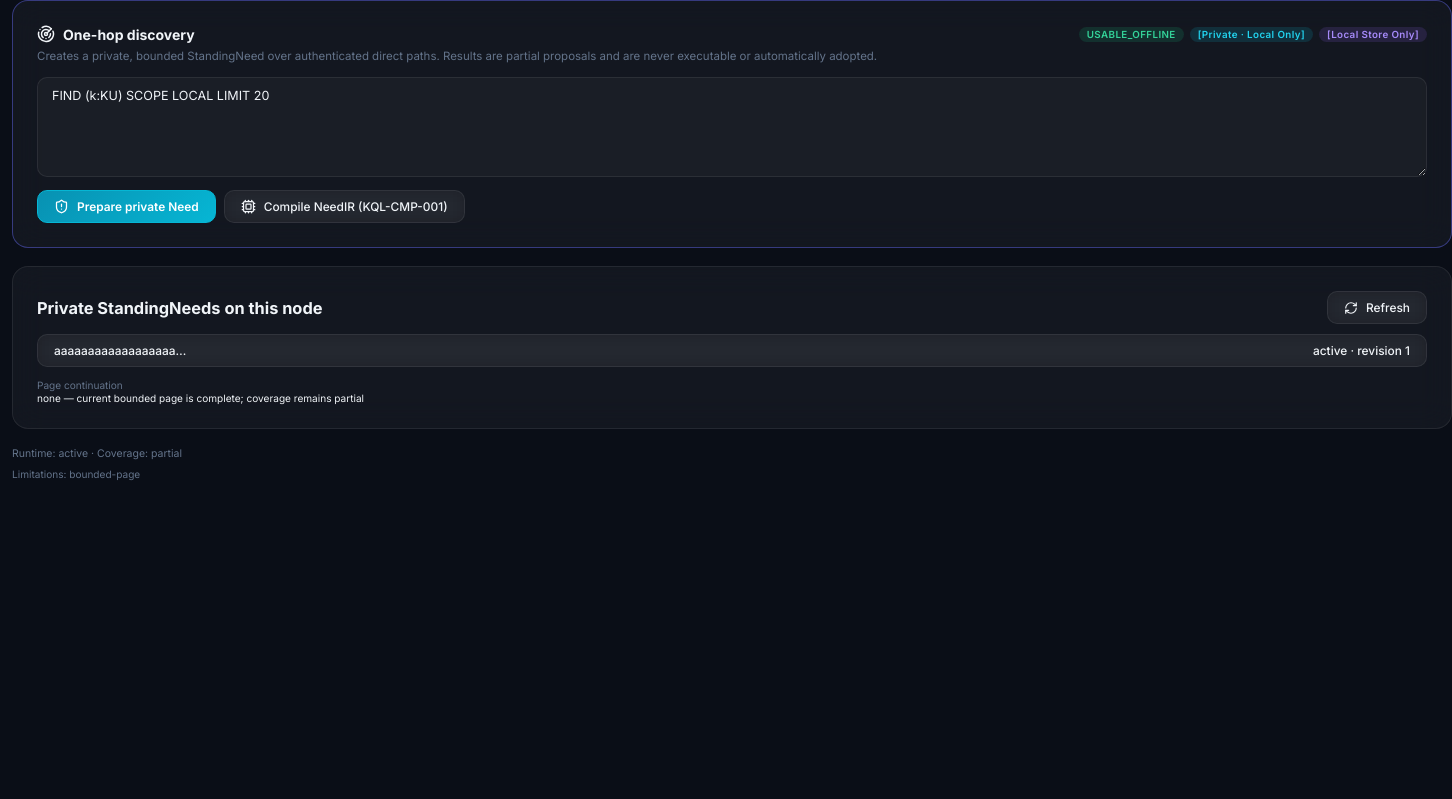
prepares a one-hop scope and projects matches only as non-executable quarantined proposals
Click the button "Prepare private Need" at (126, 206), box [37,190,216,223]
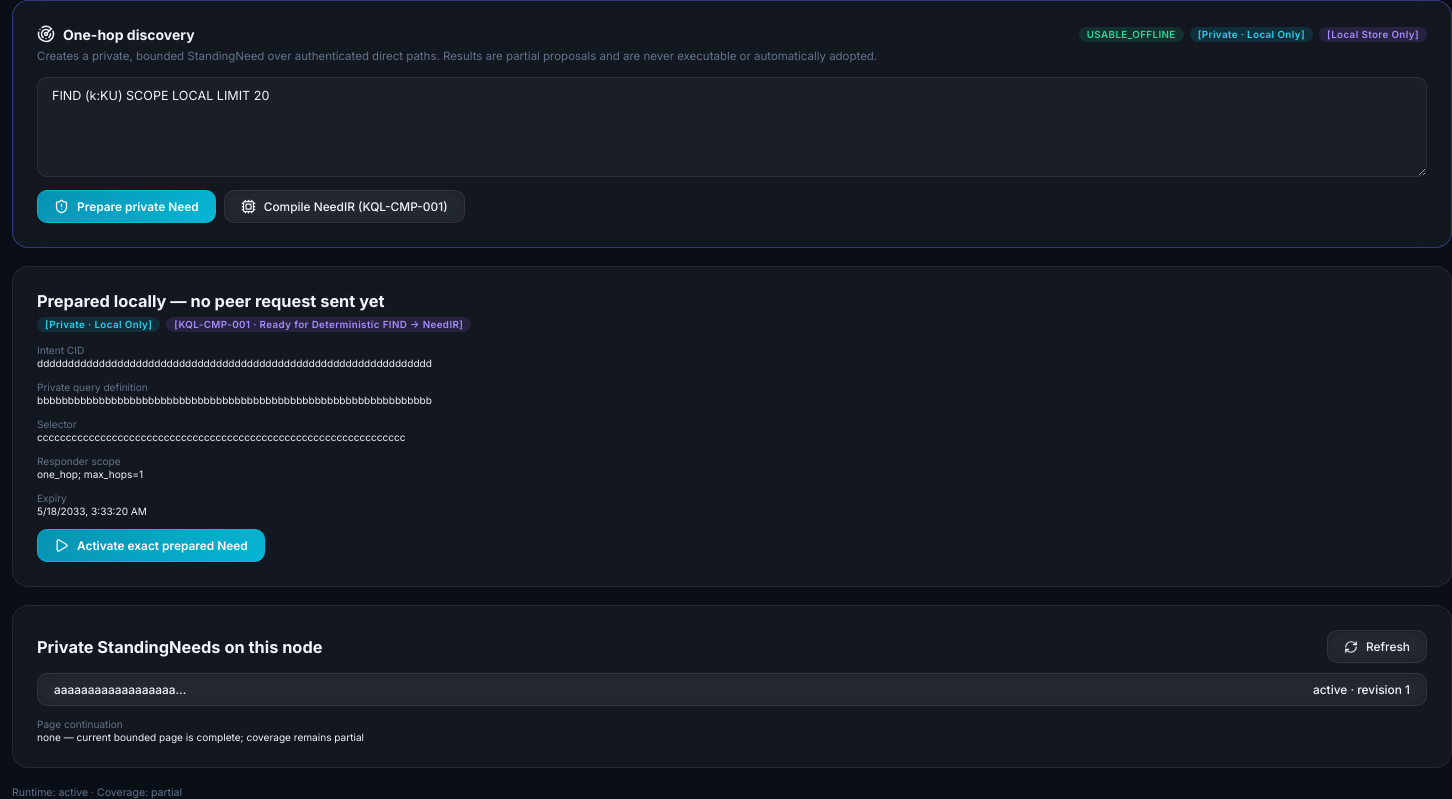
Expected: the heading "Prepared locally — no peer request sent yet" is shown, [37,291,384,311]
Click the 5th button at (115, 690), box [37,673,1427,706]
(page scrolled)
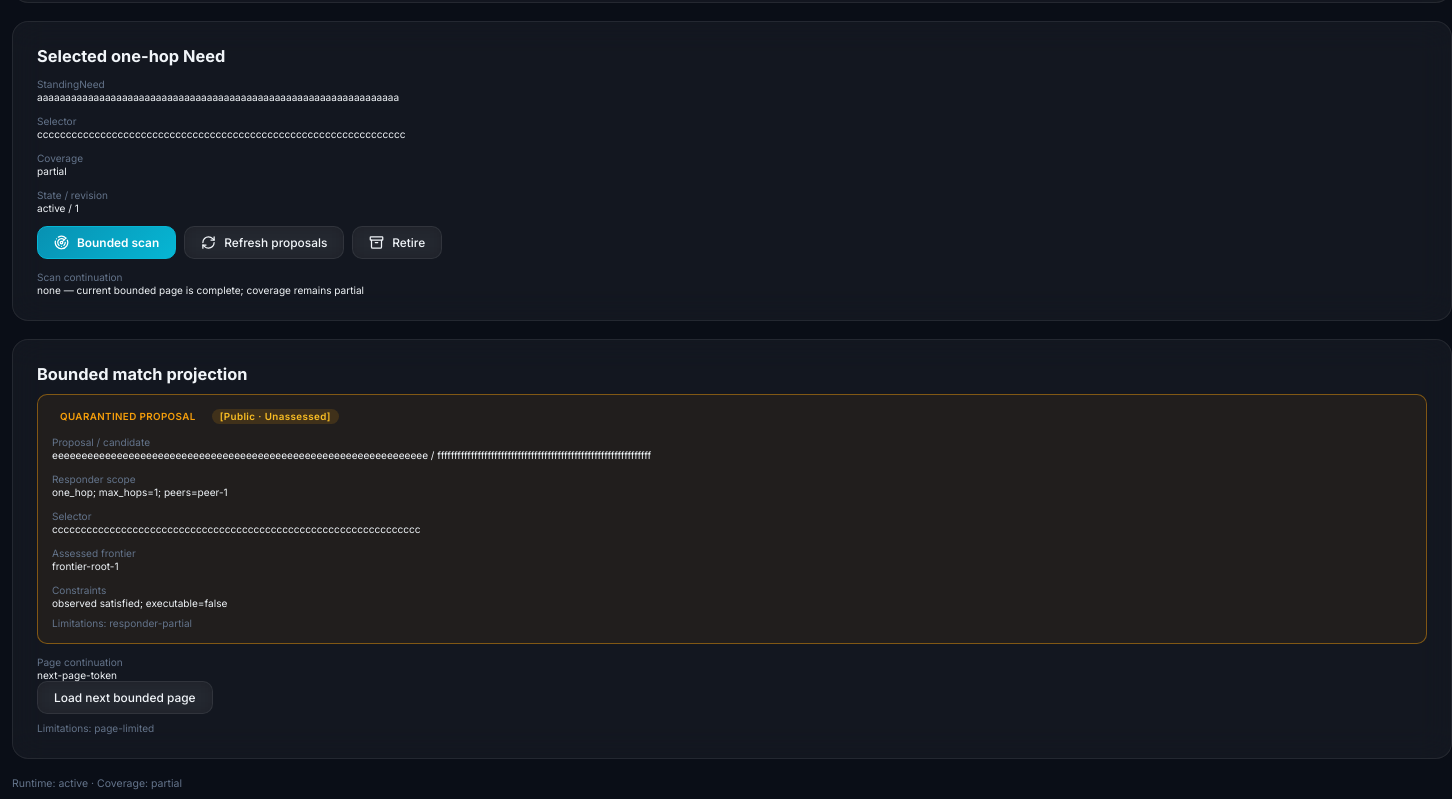
Expected: the text "one_hop; max_hops=1; peers=peer-1" is shown, [52,486,228,498]
Expected: the text "frontier-root-1" is shown, [52,560,118,572]
Expected: the text "Limitations: responder-partial" is shown, [52,617,192,629]
